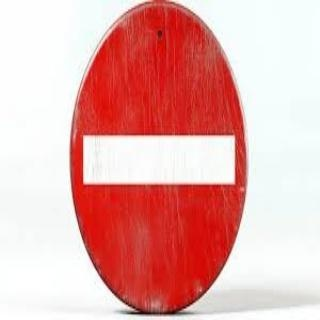sign_noentry: (49, 6, 250, 308)
